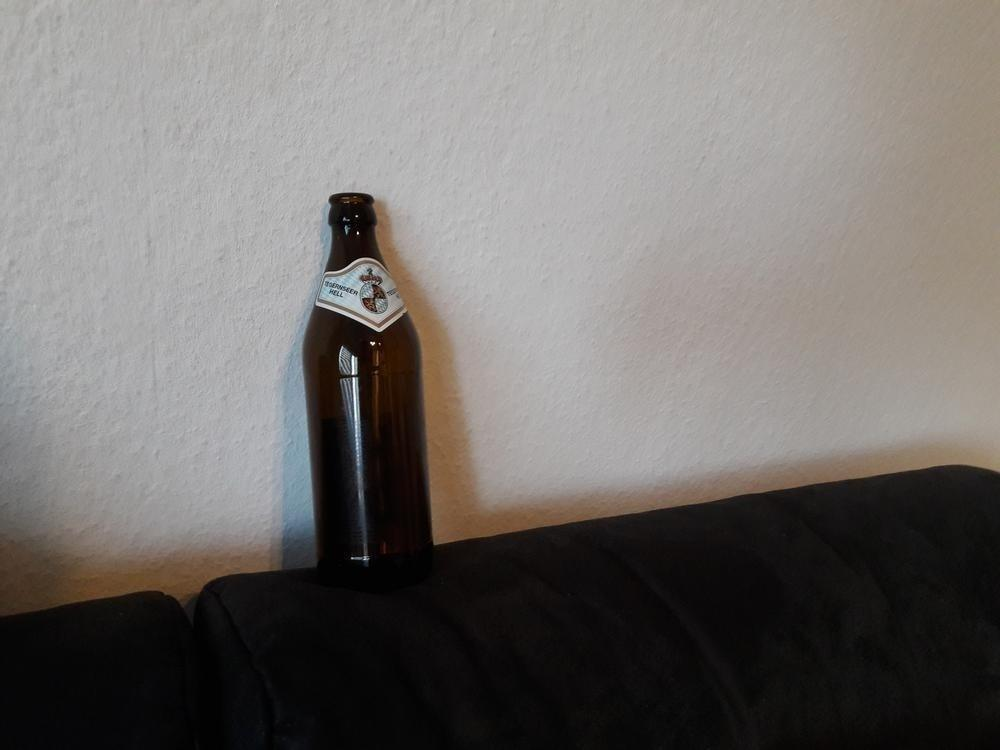bottle-glass: (300, 191, 437, 584)
